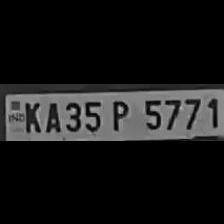1: (202, 94, 220, 128)
3: (63, 98, 81, 132)
5: (137, 96, 163, 130), (81, 97, 103, 131)
7: (180, 95, 200, 129), (162, 94, 180, 130)
A: (42, 99, 62, 134)
K: (20, 100, 40, 132)
P: (106, 96, 132, 132)
